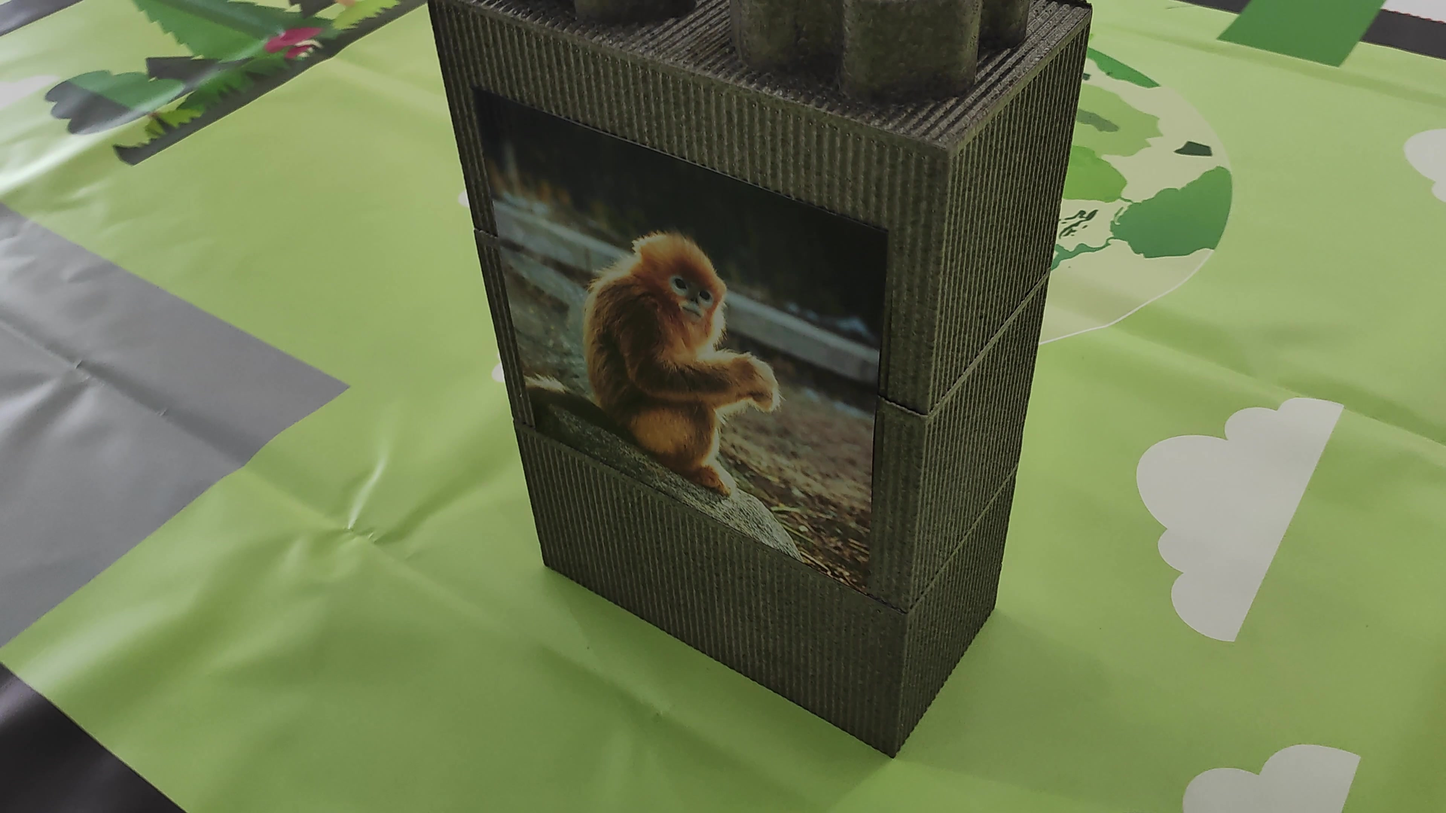monkey: (504, 192, 793, 509)
